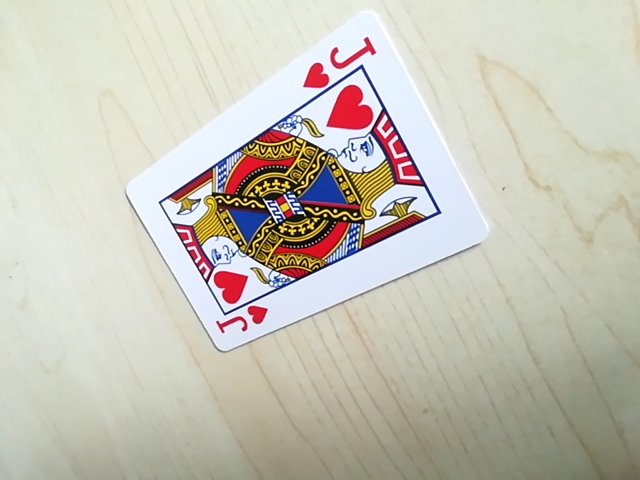hx j: (299, 28, 377, 93), (209, 302, 271, 344)
